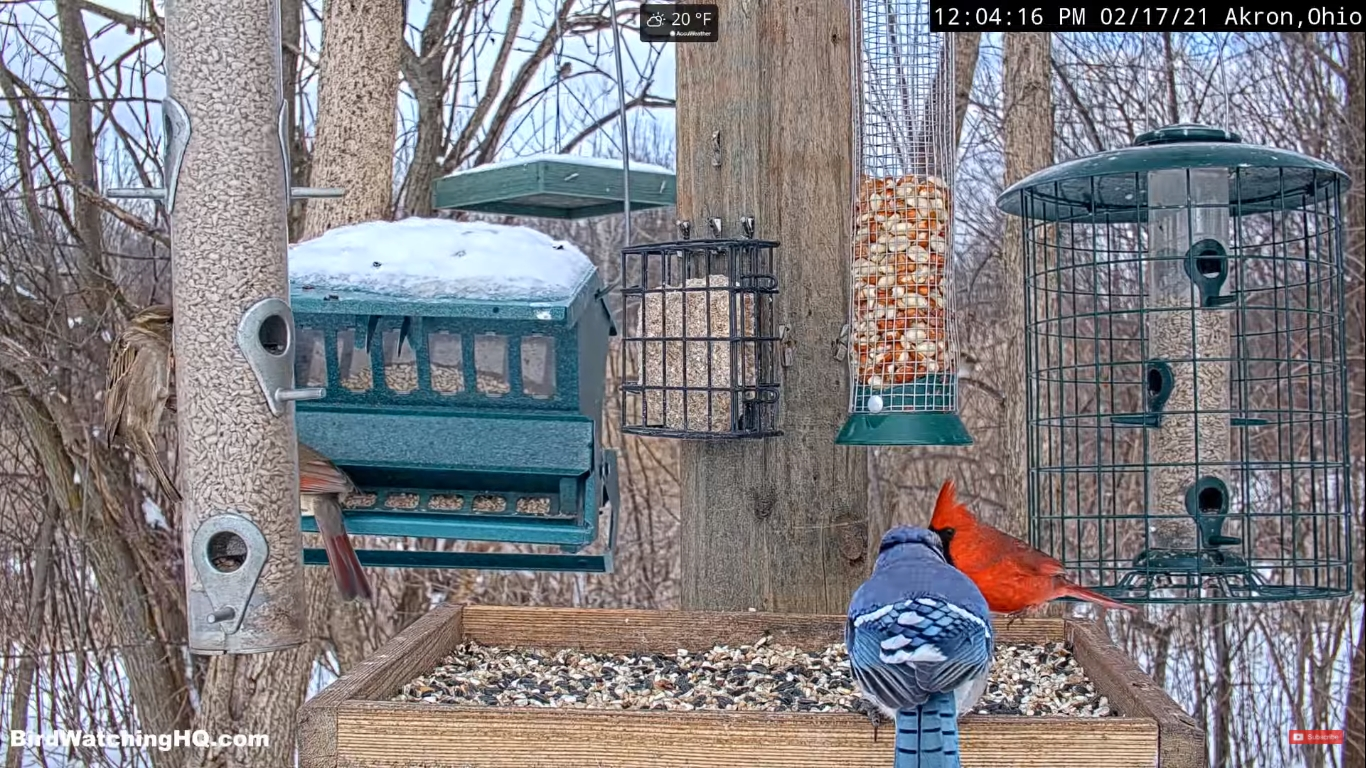bird: (847, 525, 994, 768), (928, 475, 1136, 629), (103, 303, 184, 501)
